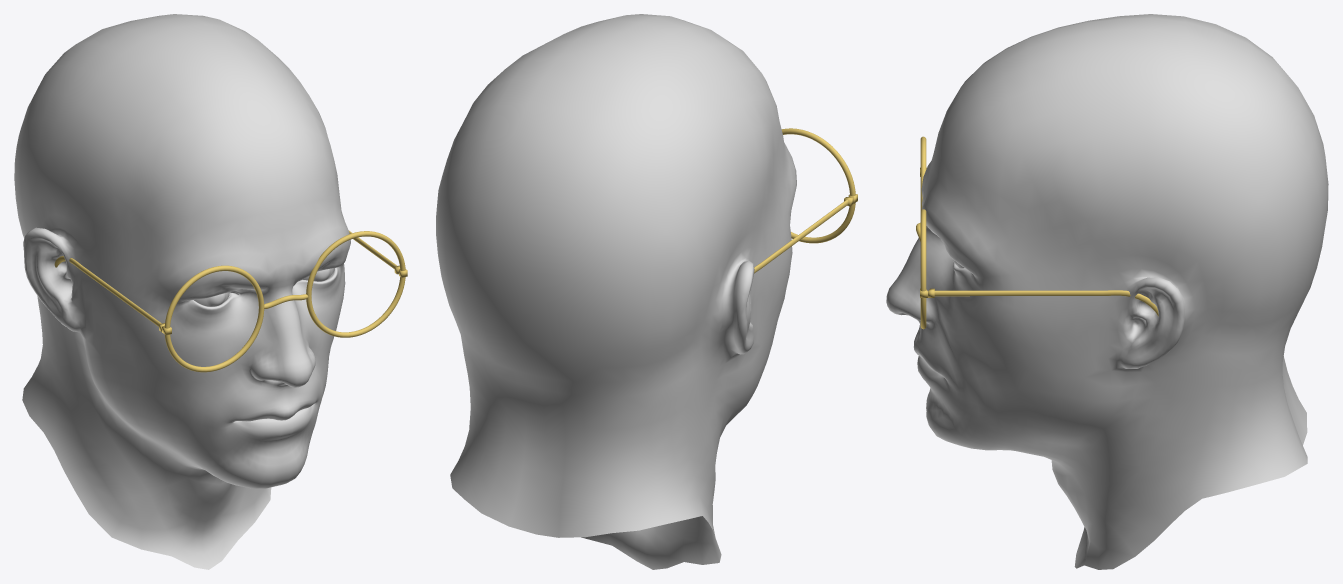
The model's file is glasses2.2.glb.
The picture shows the model from 3 angles, left to right: view 1: azimuth 30°, elevation 25°; view 2: azimuth 150°, elevation 25°; view 3: azimuth 270°, elevation 25°; orthographic projection. The views are drawn at different scales.
Parts seen in each view (by area): view 1: man_body_0014 uv map, Torus.001, Torus.002, Cylinder.002; view 2: man_body_0014 uv map, Torus.001, Cylinder.002; view 3: man_body_0014 uv map, Cylinder.001, Torus.002.
Part boxes in pixels (left/top/right/bottom): man_body_0014 uv map: left=14, top=14, right=350, bottom=569; Torus.001: left=164, top=265, right=264, bottom=372; Torus.002: left=306, top=231, right=405, bottom=337; Cylinder.002: left=54, top=256, right=161, bottom=326; man_body_0014 uv map: left=436, top=14, right=796, bottom=569; Torus.001: left=781, top=128, right=855, bottom=243; Cylinder.002: left=754, top=200, right=848, bottom=273; man_body_0014 uv map: left=886, top=14, right=1328, bottom=569; Cylinder.001: left=934, top=290, right=1158, bottom=316; Torus.002: left=920, top=209, right=926, bottom=329.
Size of the model in its own units: 0.5259 by 0.9191 by 0.6825.
